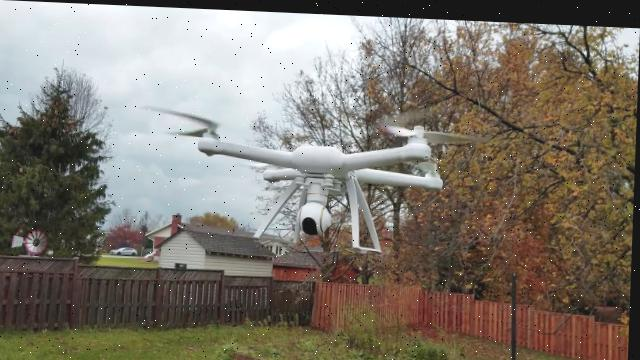drone: (139, 60, 484, 264)
